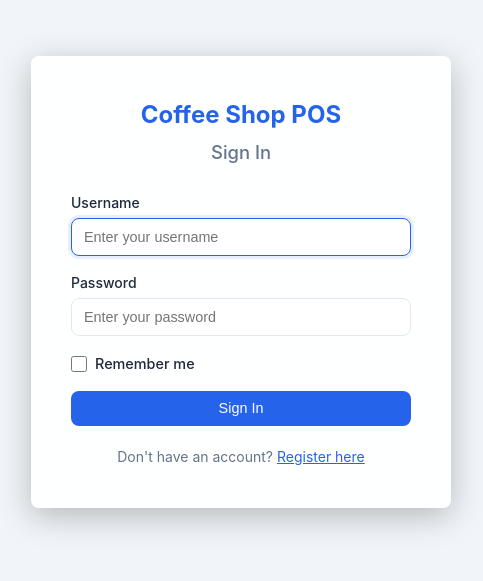
Scenario: LoginPage › shows error message on login failure
Type "testuser" into the field labelled "Username".
click(241, 237); type("testuser")  # box 71,218 -> 411,256
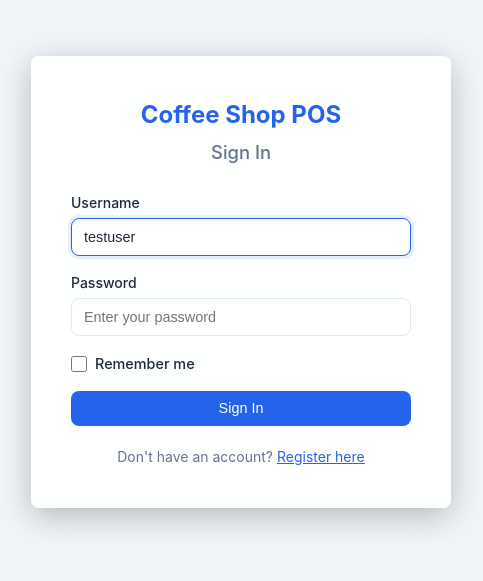
Type "wrongpass" into the password field labelled "Password".
click(241, 317); type("wrongpass")  # box 71,298 -> 411,336
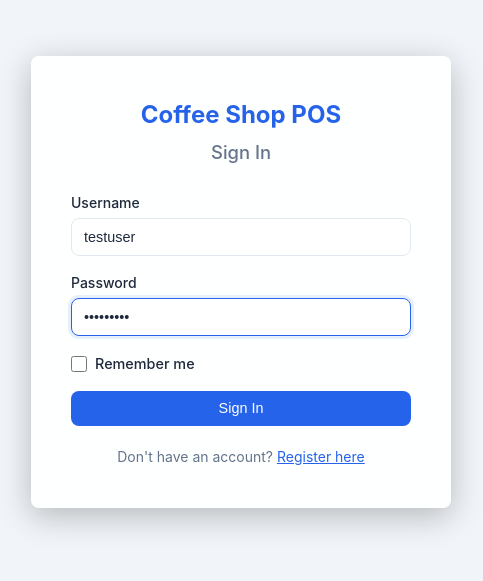
Click the button "Sign In".
click(241, 409)  # box 71,391 -> 411,426
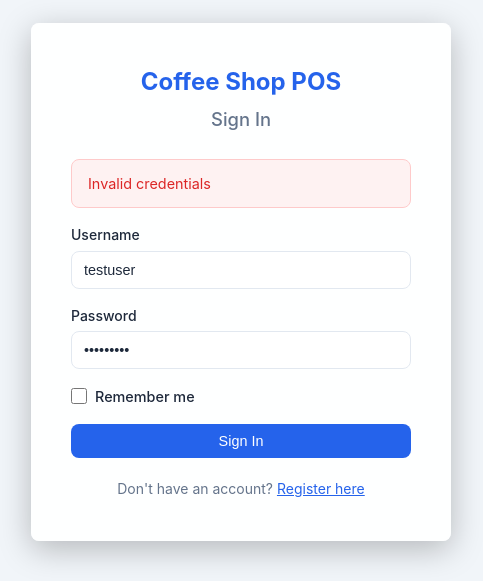
Expected: the text "Invalid credentials" is shown, 71,159 -> 411,208
